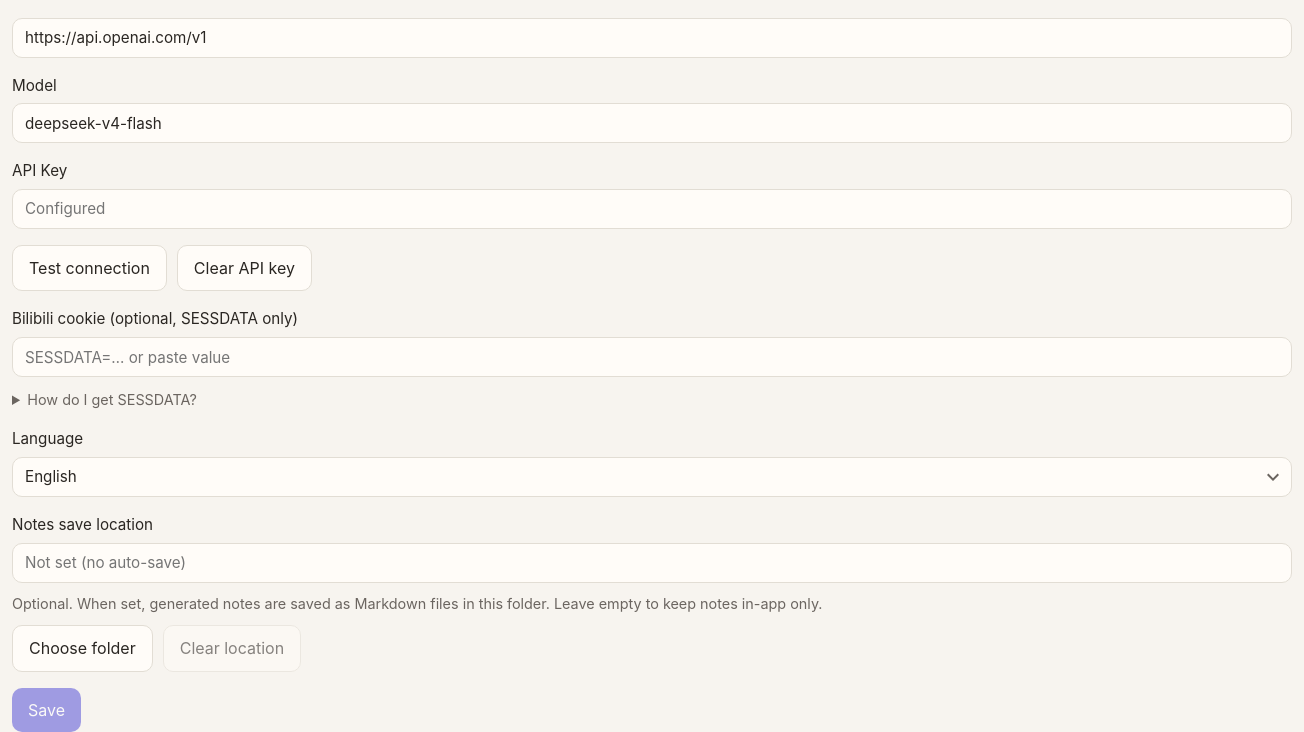
ConfigForm › does not pretend full success when settings save fails after auth
This screenshot has width=1304, height=732.
(page scrolled)
Type "broken-model" into the field labelled "Model". click: (652, 123)
box: [12,103,1292,143]
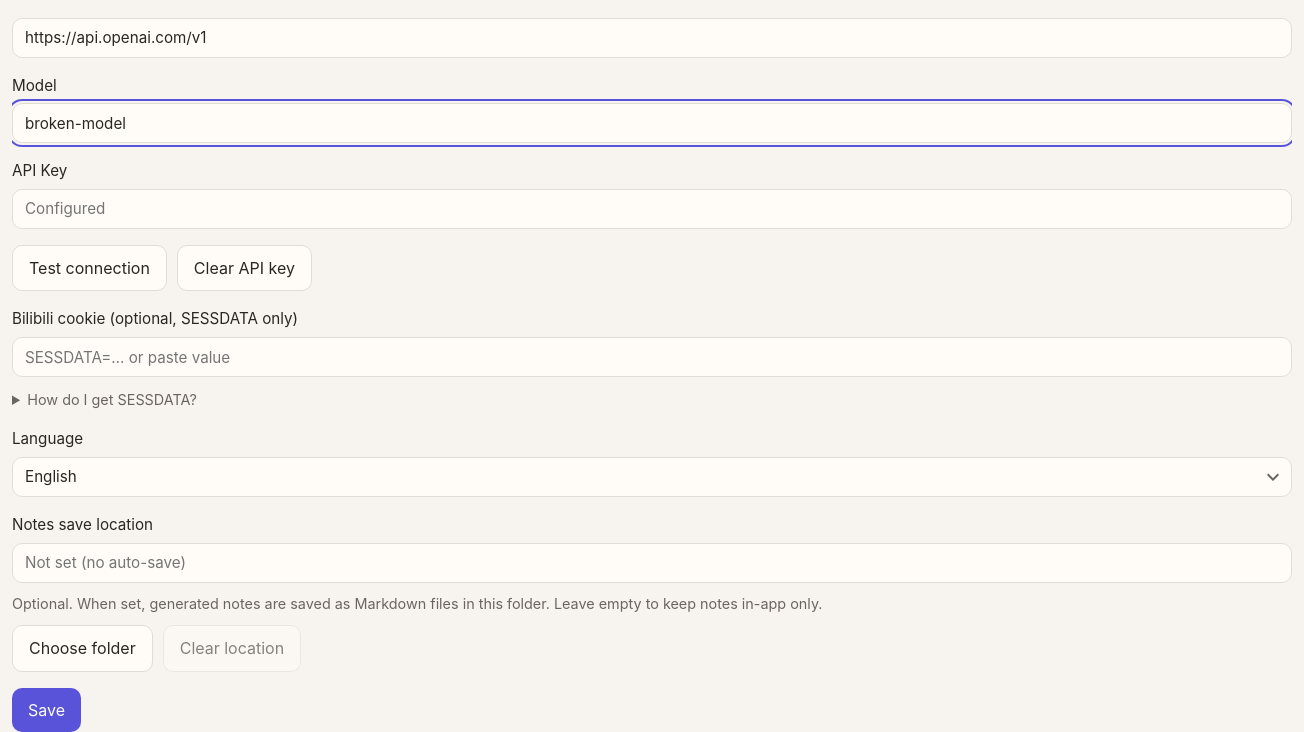
Click the button "Save". click: (46, 710)
box: [12,688,81,731]
(page scrolled)
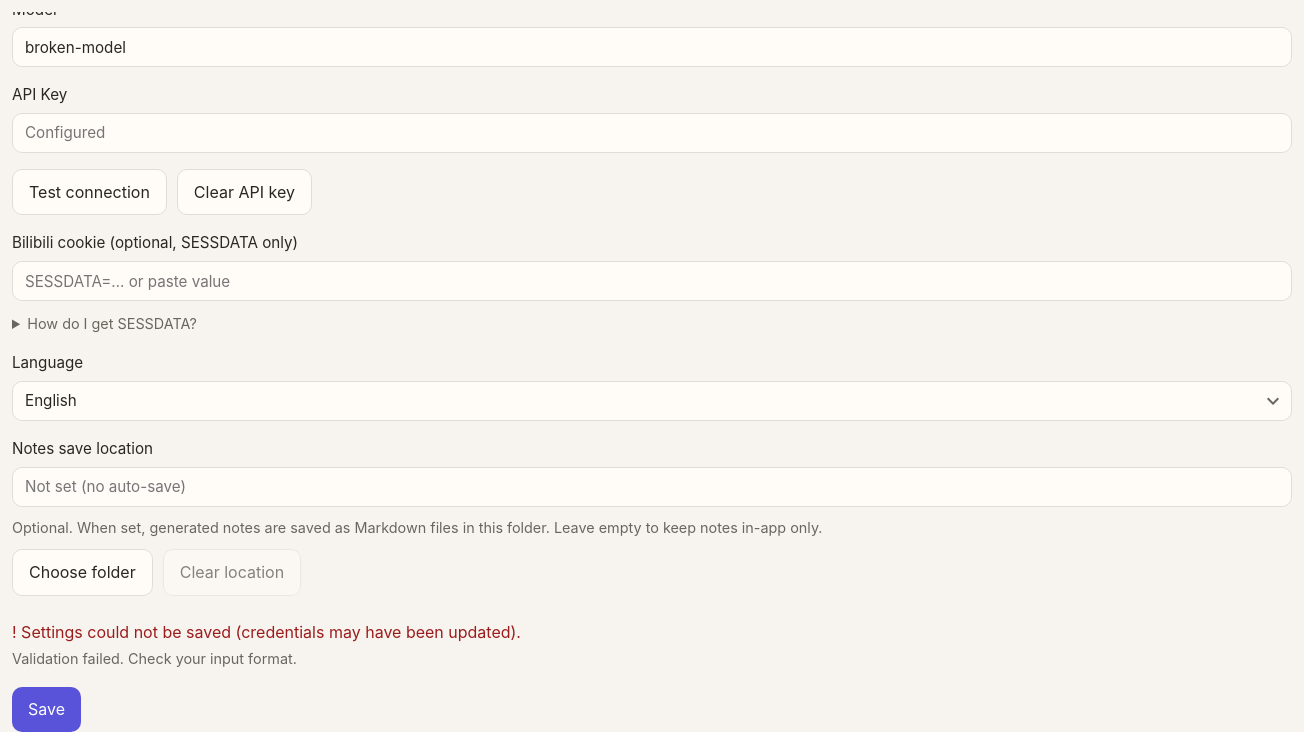
Expected: the text "Settings could not be saved" is shown, [21,622,521,642]
Expected: the text "Validation failed. Check your input format." is shown, [12,650,297,667]
